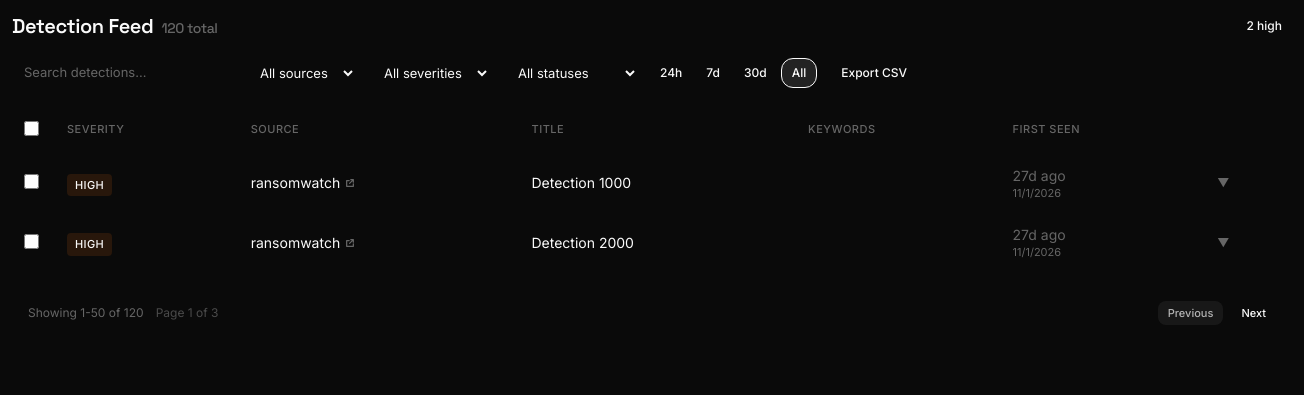
DetectionFeed paging › requests only offset=0 after a filter change on page 2
Click the button "Next". click: (1254, 313)
box: [1231,301,1276,325]
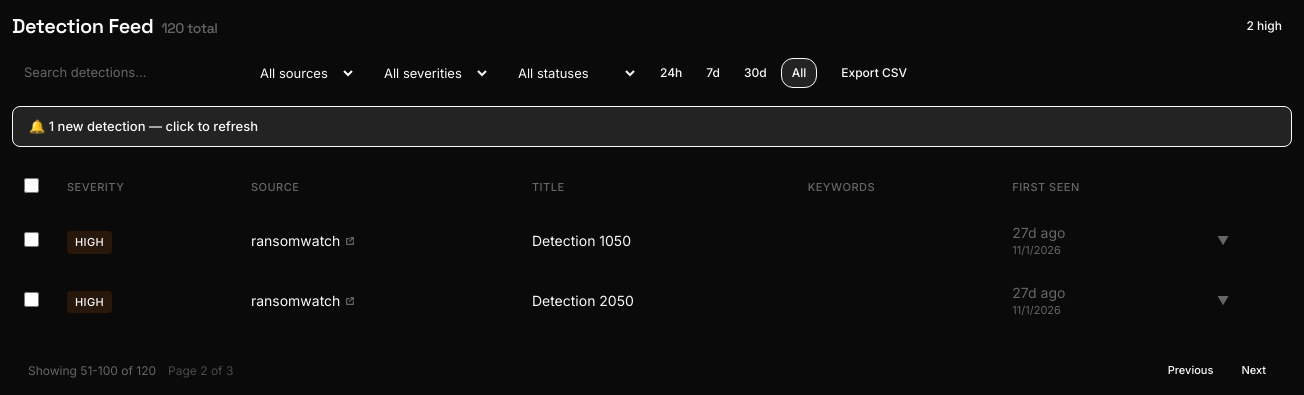
Select "High" in the 2nd dropdown showing "All severities". click: (429, 73)
box: [368,57,490,89]
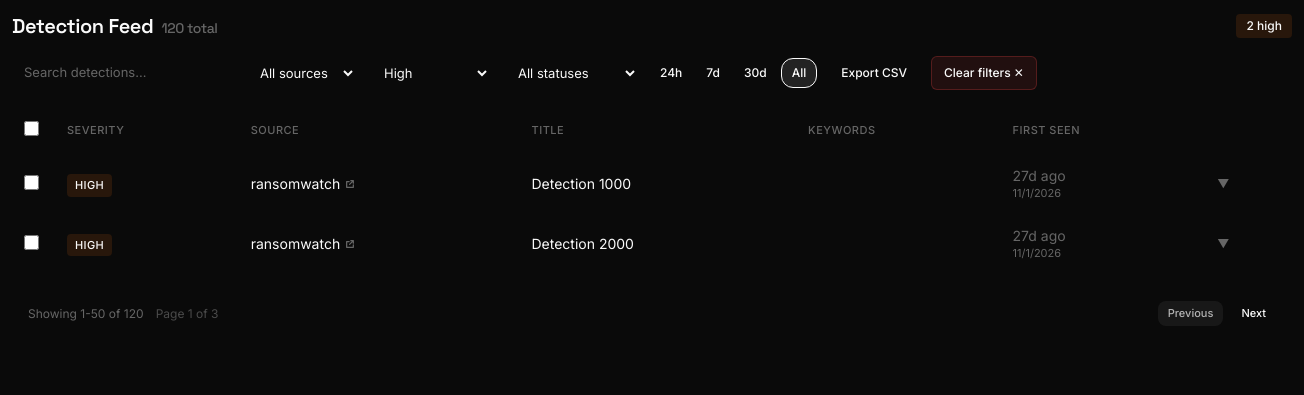
Expected: the text "Page 1 of 3" is shown, [156,306,218,321]
